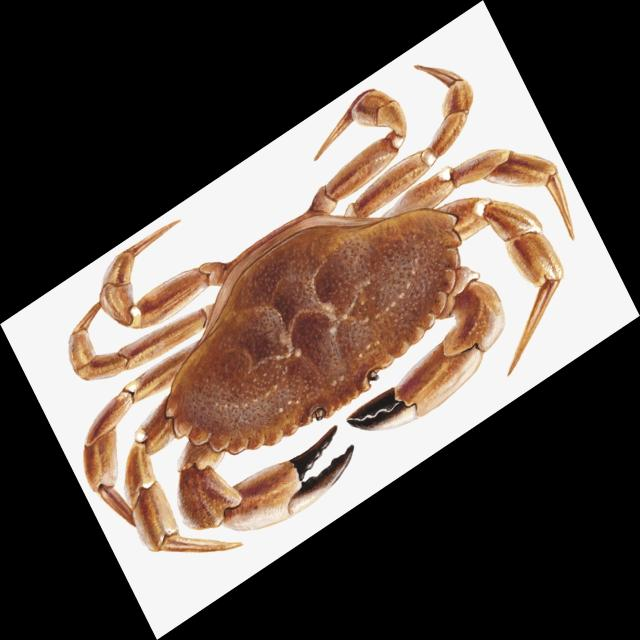Native Jonah crab: (69, 65, 573, 553)
